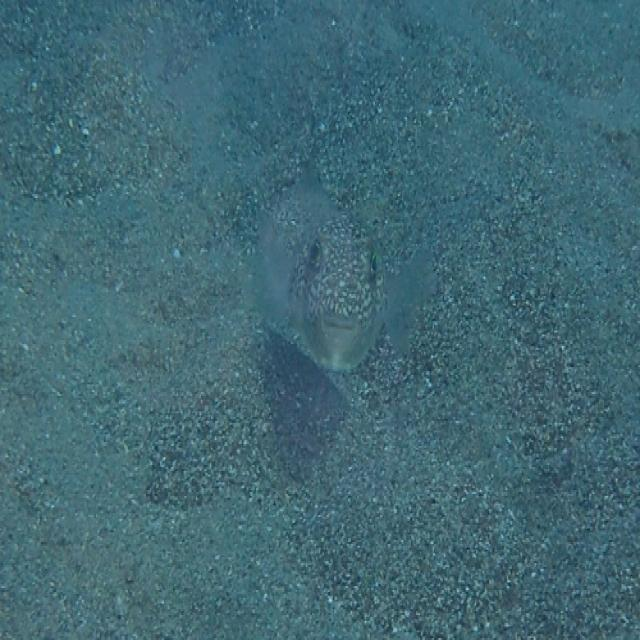Balik: (290, 216, 386, 370)
